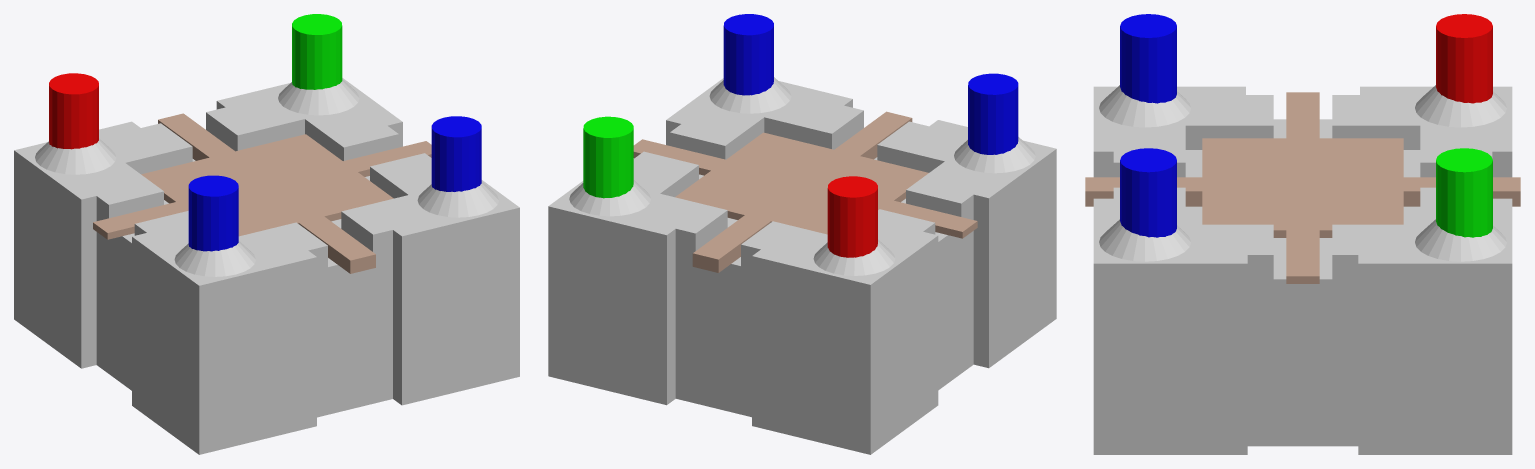
Rendered from concave_block.glb.
3 renders of one model, left to right at view 1: azimuth 30°, elevation 25°; view 2: azimuth 150°, elevation 25°; view 3: azimuth 270°, elevation 25°, orthographic. The views are drawn at different scales.
Parts seen in each view (by area): view 1: AmpliBlock; view 2: AmpliBlock; view 3: AmpliBlock.
Boxes of the visible parts, x1,y1,x2,y2 form: AmpliBlock: (14,14,519,454); AmpliBlock: (548,14,1056,454); AmpliBlock: (1085,14,1520,454).
Bounding box in the file's own units: 13 × 9 × 13.
